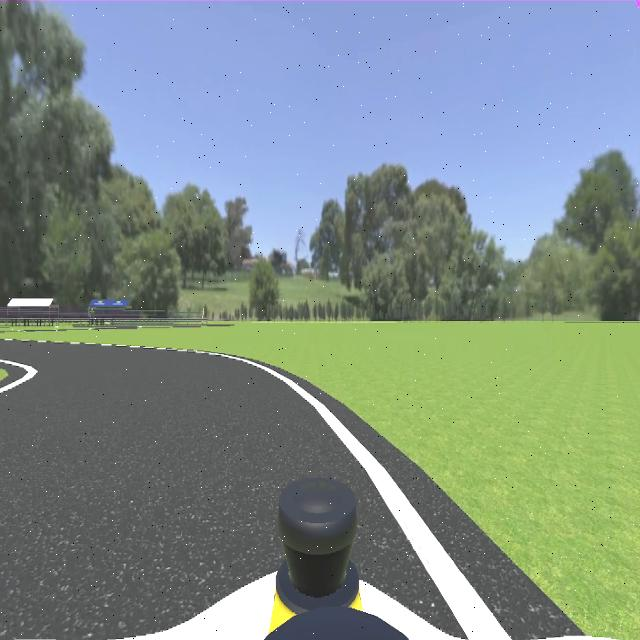road: (0, 344, 460, 639)
solid_line: (221, 356, 510, 640), (0, 359, 37, 395)
